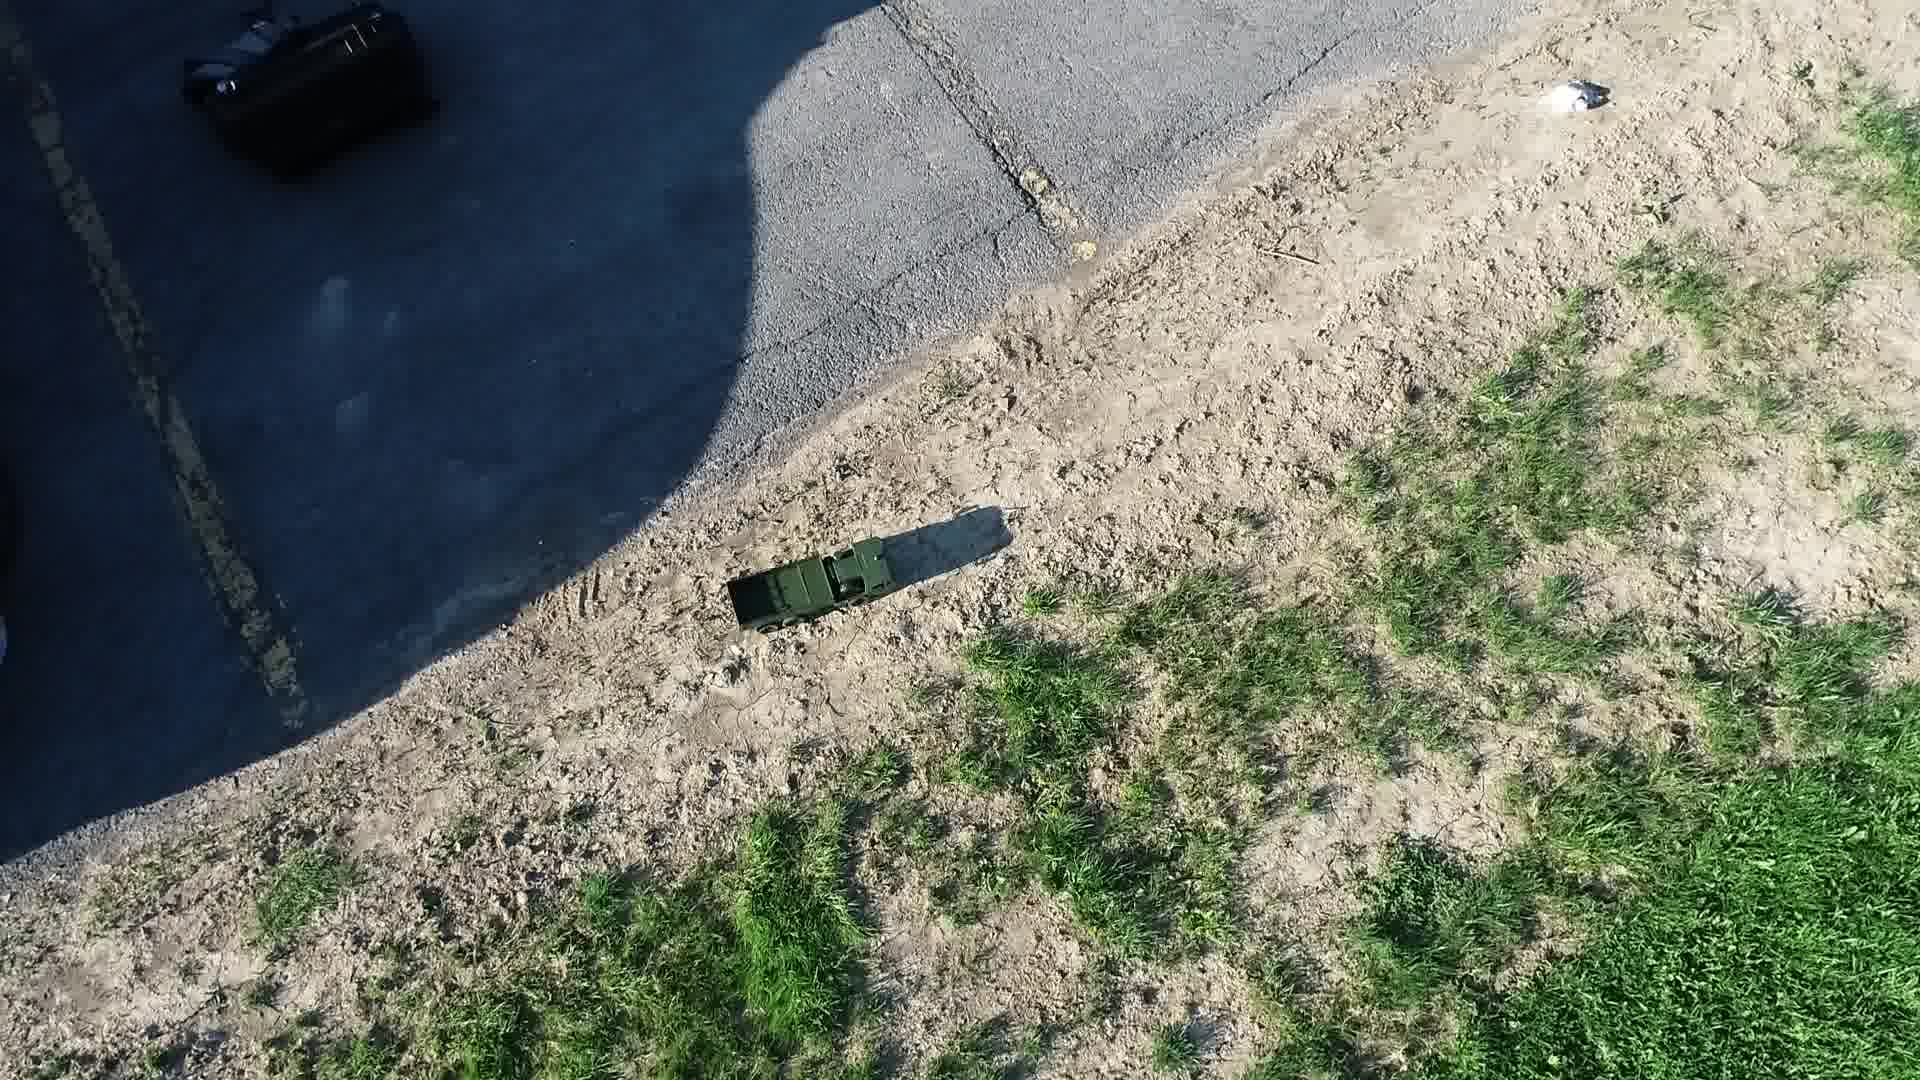transporter9: (723, 529, 901, 640)
